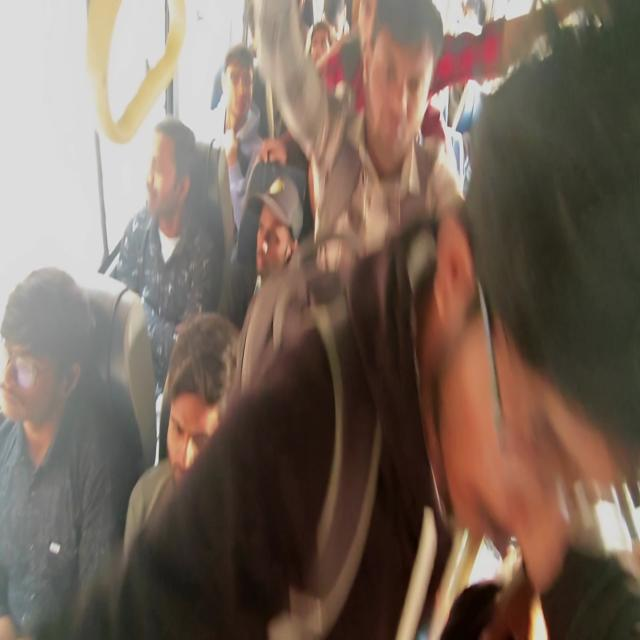person: (464, 87, 640, 531), (169, 339, 228, 511), (4, 296, 71, 436), (380, 5, 434, 171), (224, 47, 272, 124), (148, 124, 190, 212), (258, 190, 300, 275), (358, 4, 389, 49), (326, 0, 351, 41), (312, 28, 330, 82)
